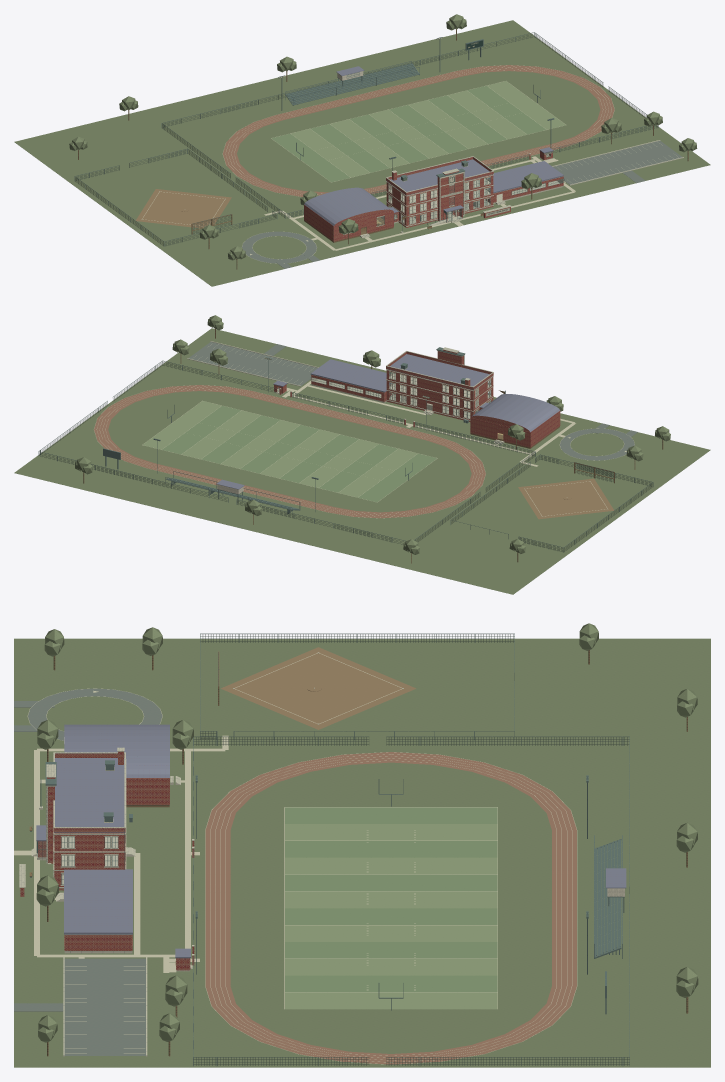
Rendered from lincoln-high-school-2000.glb.
3 renders of one model, top to bottom at view 1: azimuth 30°, elevation 25°; view 2: azimuth 150°, elevation 25°; view 3: azimuth 270°, elevation 25°, orthographic. The views are drawn at different scales.
Visible parts, largest first — view 1: lot__ground_grass, football_field__ground_sport, school_1925__wall_brick, baseball_diamond__ground_sport, student_parking__ground_sport, field_fence__glass_windows, school_1925__wall_stone, steel_bleachers__detail_metal, gymnasium__roof_membrane, gymnasium__wall_brick, baseball_fence__glass_windows, school_1925__roof_membrane (+7 smaller); view 2: lot__ground_grass, football_field__ground_sport, school_1925__wall_brick, field_fence__glass_windows, baseball_diamond__ground_sport, student_parking__ground_sport, school_1925__wall_stone, gymnasium__roof_membrane, gymnasium__wall_brick, school_1925__roof_membrane, modern_wing__roof_membrane, baseball_fence__glass_windows (+7 smaller); view 3: lot__ground_grass, football_field__ground_sport, baseball_diamond__ground_sport, student_parking__ground_sport, school_1925__roof_membrane, modern_wing__roof_membrane, field_fence__glass_windows, campus_paths__ground_sport, gymnasium__roof_membrane, school_1925__wall_brick, steel_bleachers__detail_metal, bus_loop__ground_sport (+6 smaller).
Boxes of the visible parts, <box> form: lot__ground_grass: <box>14,20,710,286</box>; football_field__ground_sport: <box>222,65,614,196</box>; school_1925__wall_brick: <box>386,157,493,227</box>; baseball_diamond__ground_sport: <box>135,189,231,228</box>; student_parking__ground_sport: <box>553,141,682,184</box>; field_fence__glass_windows: <box>162,33,657,218</box>; school_1925__wall_stone: <box>386,156,493,226</box>; steel_bleachers__detail_metal: <box>285,61,419,105</box>; gymnasium__roof_membrane: <box>304,187,391,225</box>; gymnasium__wall_brick: <box>304,204,393,241</box>; baseball_fence__glass_windows: <box>75,149,276,246</box>; school_1925__roof_membrane: <box>386,159,493,195</box>; lot__ground_grass: <box>14,328,710,594</box>; football_field__ground_sport: <box>94,385,485,518</box>; school_1925__wall_brick: <box>386,350,493,421</box>; field_fence__glass_windows: <box>39,361,535,544</box>; baseball_diamond__ground_sport: <box>518,478,614,519</box>; student_parking__ground_sport: <box>188,342,317,385</box>; school_1925__wall_stone: <box>386,347,493,420</box>; gymnasium__roof_membrane: <box>472,394,559,432</box>; gymnasium__wall_brick: <box>470,411,560,447</box>; school_1925__roof_membrane: <box>386,354,491,389</box>; modern_wing__roof_membrane: <box>310,359,391,392</box>; baseball_fence__glass_windows: <box>451,455,652,551</box>; lot__ground_grass: <box>14,638,710,1067</box>; football_field__ground_sport: <box>205,752,577,1064</box>; baseball_diamond__ground_sport: <box>221,647,415,729</box>; student_parking__ground_sport: <box>64,958,145,1055</box>; school_1925__roof_membrane: <box>54,758,125,832</box>; modern_wing__roof_membrane: <box>64,869,132,934</box>; field_fence__glass_windows: <box>194,737,629,1065</box>; campus_paths__ground_sport: <box>14,735,228,972</box>; gymnasium__roof_membrane: <box>64,724,169,777</box>; school_1925__wall_brick: <box>47,751,125,890</box>; steel_bleachers__detail_metal: <box>594,835,624,958</box>; bus_loop__ground_sport: <box>14,688,162,740</box>.
Size of what is drawn, in the model's own units: 233 by 20.87 by 160.
Materials: 12 (12 with a texture image).
